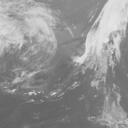cyclone: (41, 38, 115, 102)
